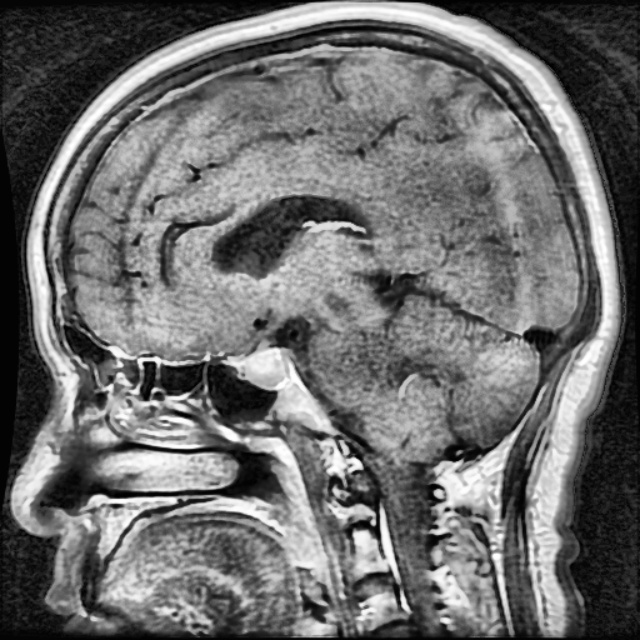Pituitary: (244, 349, 287, 389)
